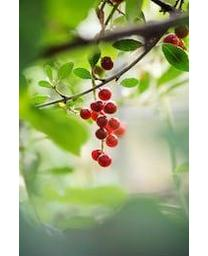cherry: (163, 32, 178, 47), (97, 155, 112, 168), (100, 56, 114, 69), (98, 89, 111, 101), (105, 102, 118, 114), (108, 118, 121, 130), (96, 116, 108, 128), (106, 135, 118, 147), (91, 149, 104, 160), (91, 101, 104, 111), (79, 109, 91, 119), (96, 130, 107, 140)
